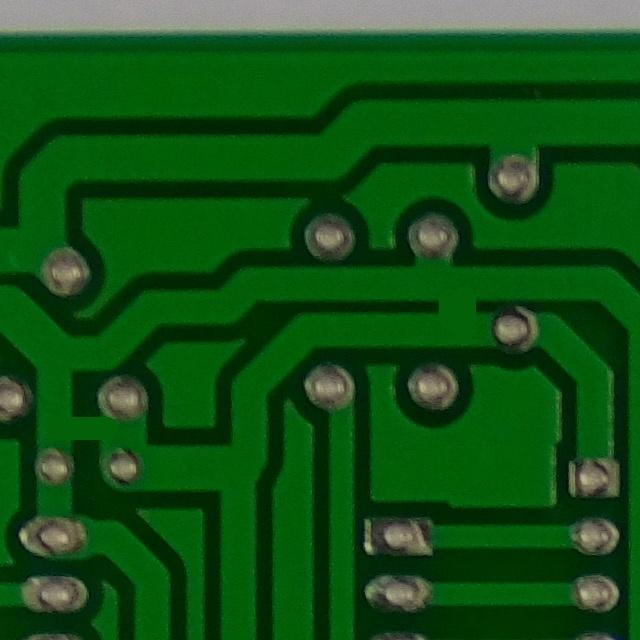short: (39, 393, 133, 467), (417, 270, 500, 349)
